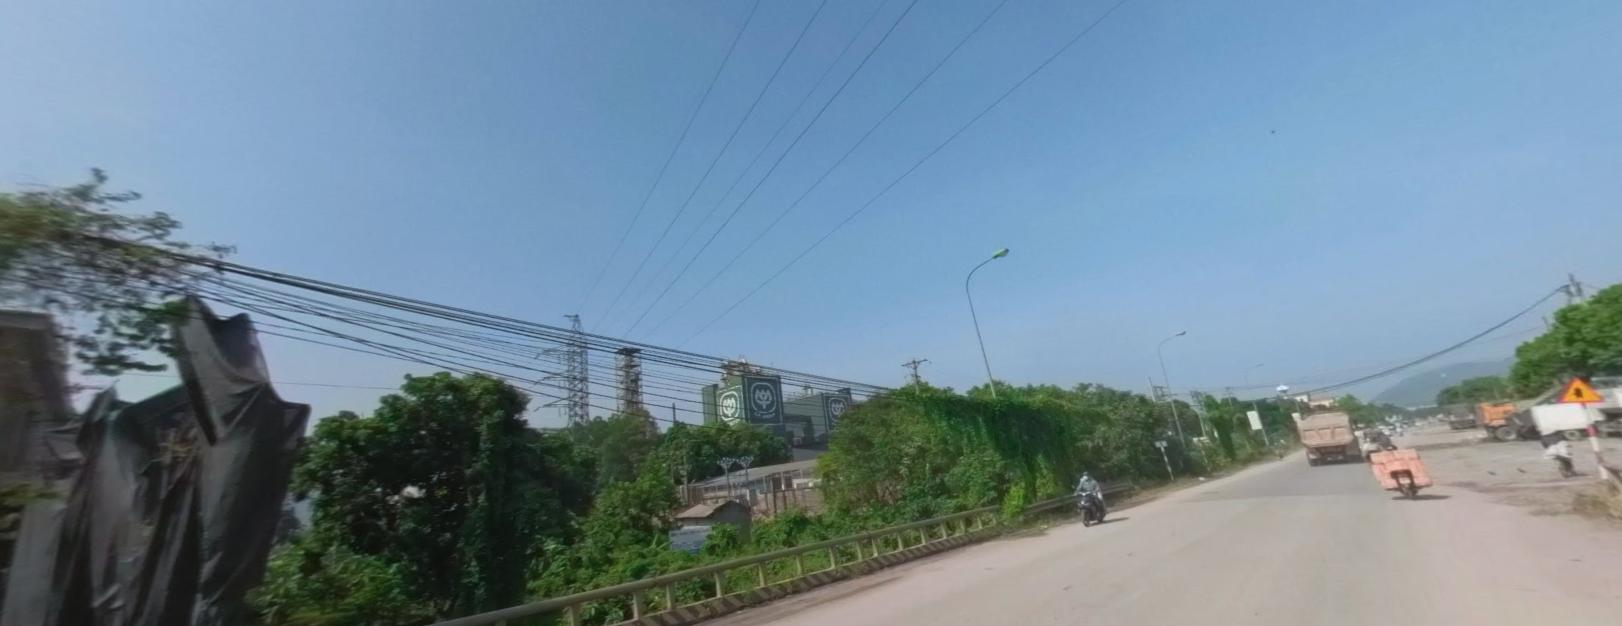Nguy hiem: (1558, 374, 1604, 403), (1560, 376, 1604, 401), (1559, 375, 1601, 399), (1564, 376, 1603, 401)
